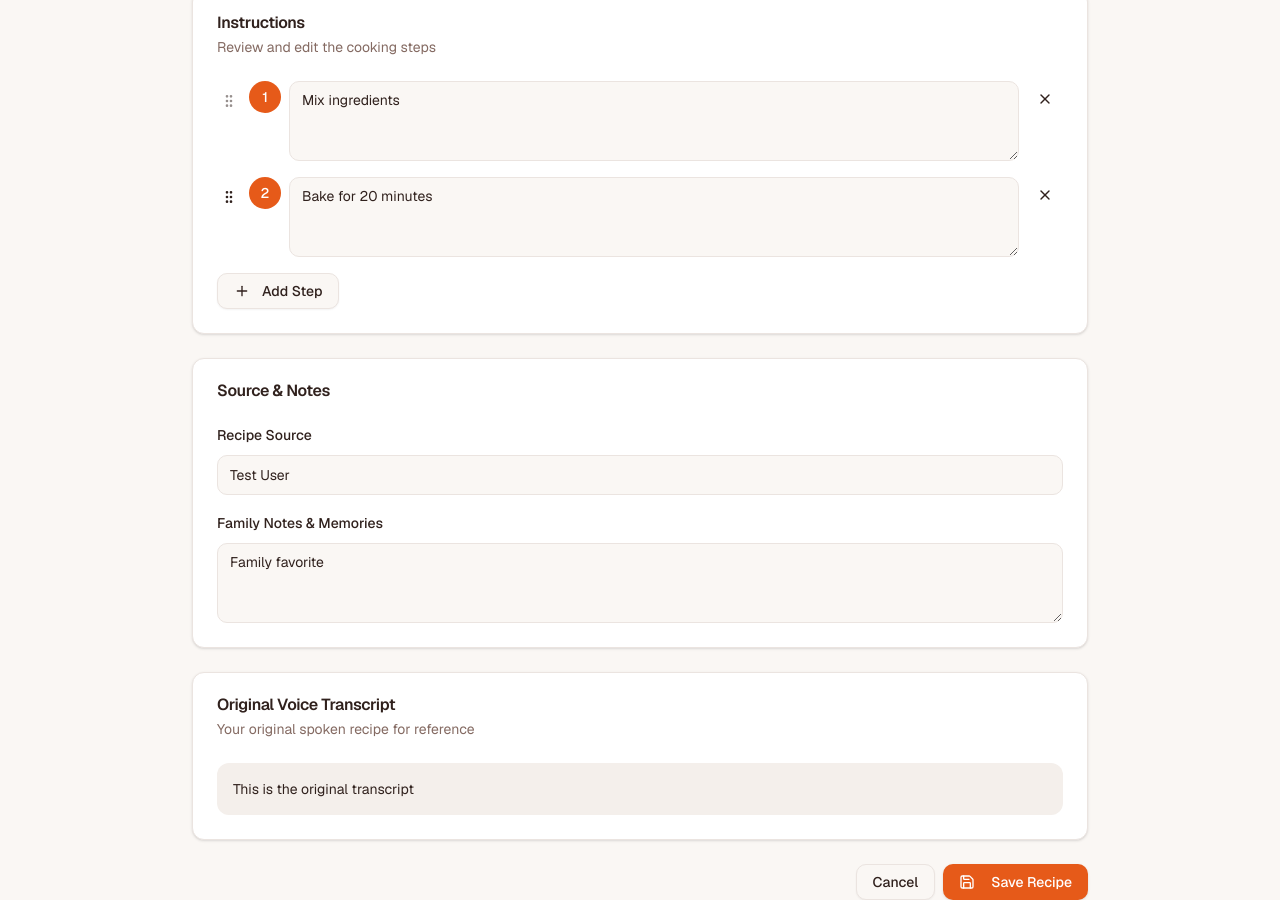
Scenario: VoiceReviewForm › should handle submission errors
The width and height of the screenshot is (1280, 900).
(page scrolled)
Click the button "Save Recipe" at coordinates (1016, 882), box [943,864,1088,899]
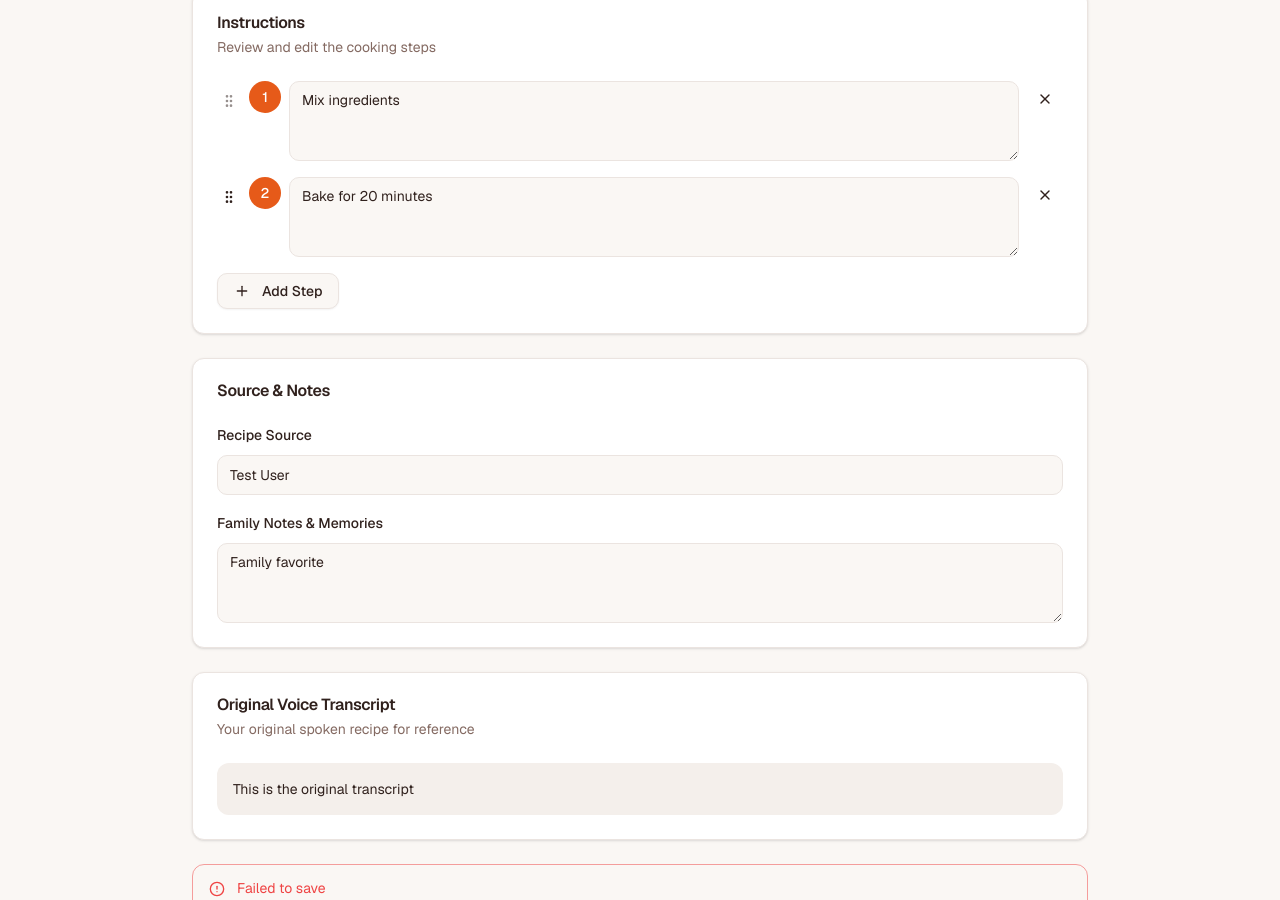
Now the text "Failed to save" is shown, box [237,879,326,897]
